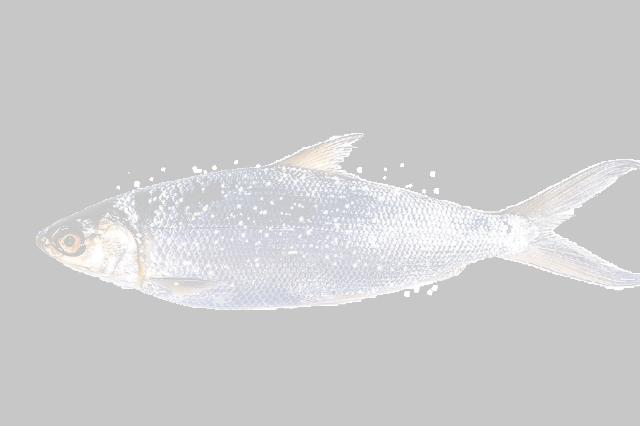Ichthyophthirius -White Spots-: (36, 134, 640, 309), (36, 134, 640, 309), (36, 134, 640, 309), (36, 134, 640, 309), (36, 134, 640, 309)
